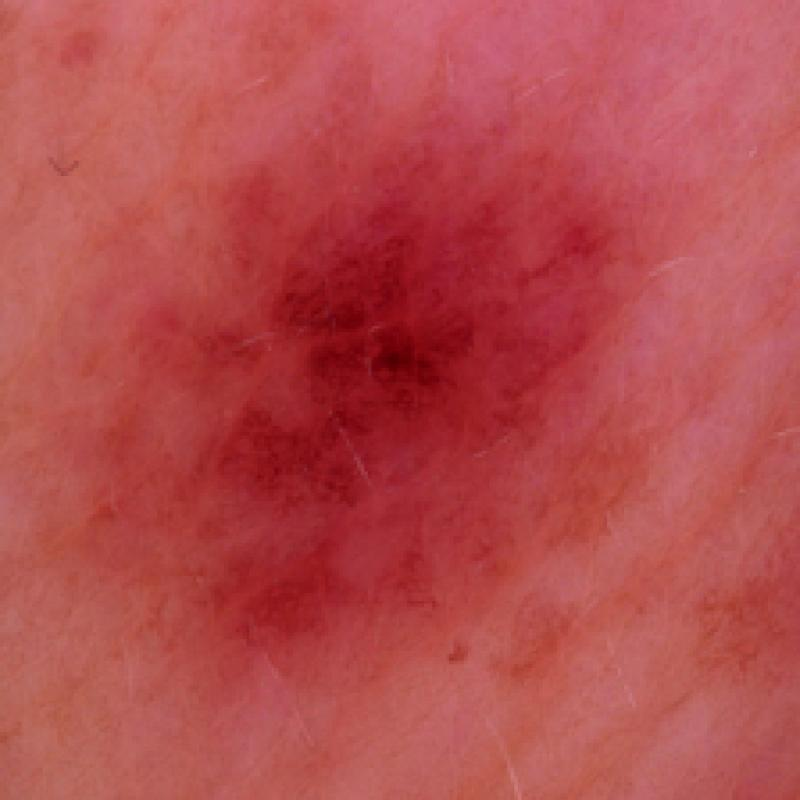benign: (128, 115, 662, 664)
